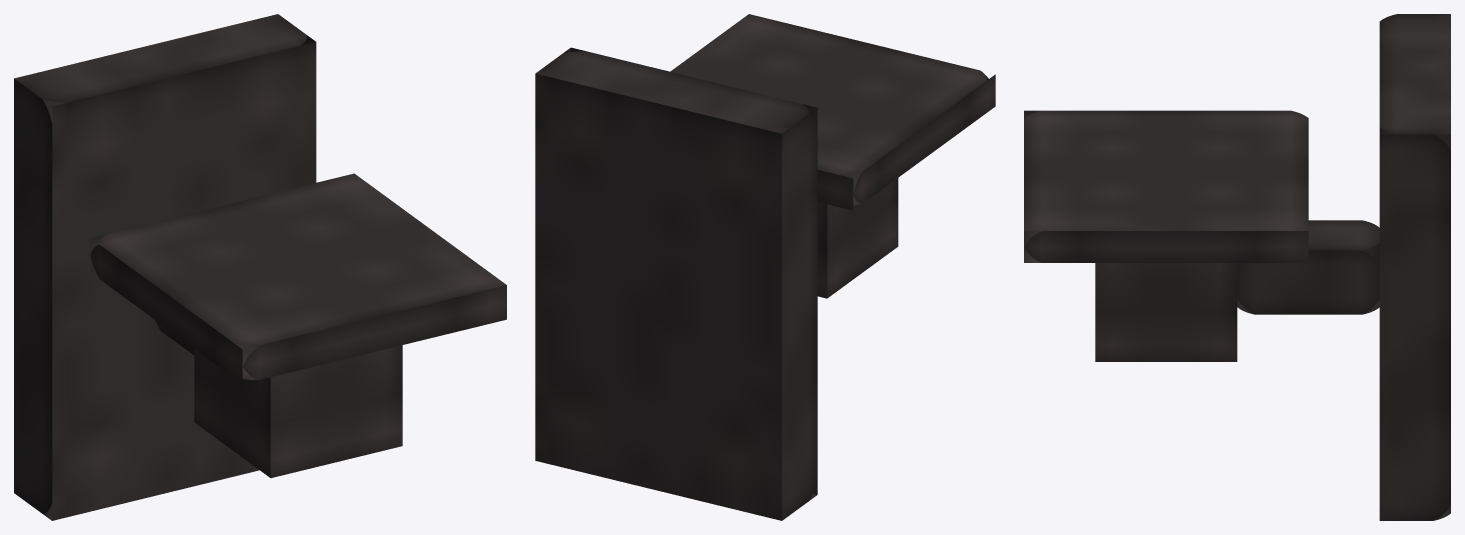
The model's file is Wall_Stand.fbx.
3 renders of one model, left to right at view 1: azimuth 30°, elevation 25°; view 2: azimuth 150°, elevation 25°; view 3: azimuth 270°, elevation 25°, orthographic. The views are drawn at different scales.
Visible parts, largest first — view 1: Wall_Stand; view 2: Wall_Stand; view 3: Wall_Stand.
Boxes of the visible parts, box(x1,y1,x2,y2) form: Wall_Stand: box(14, 14, 506, 520); Wall_Stand: box(535, 14, 995, 520); Wall_Stand: box(1024, 14, 1450, 520).
Bounding box in the file's own units: 50 × 75 × 75.
1 material, 1 textured.
